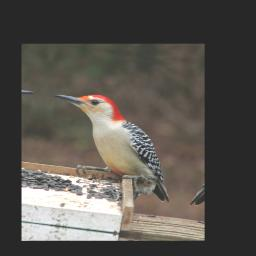Woodpecker: (37, 89, 188, 205)
